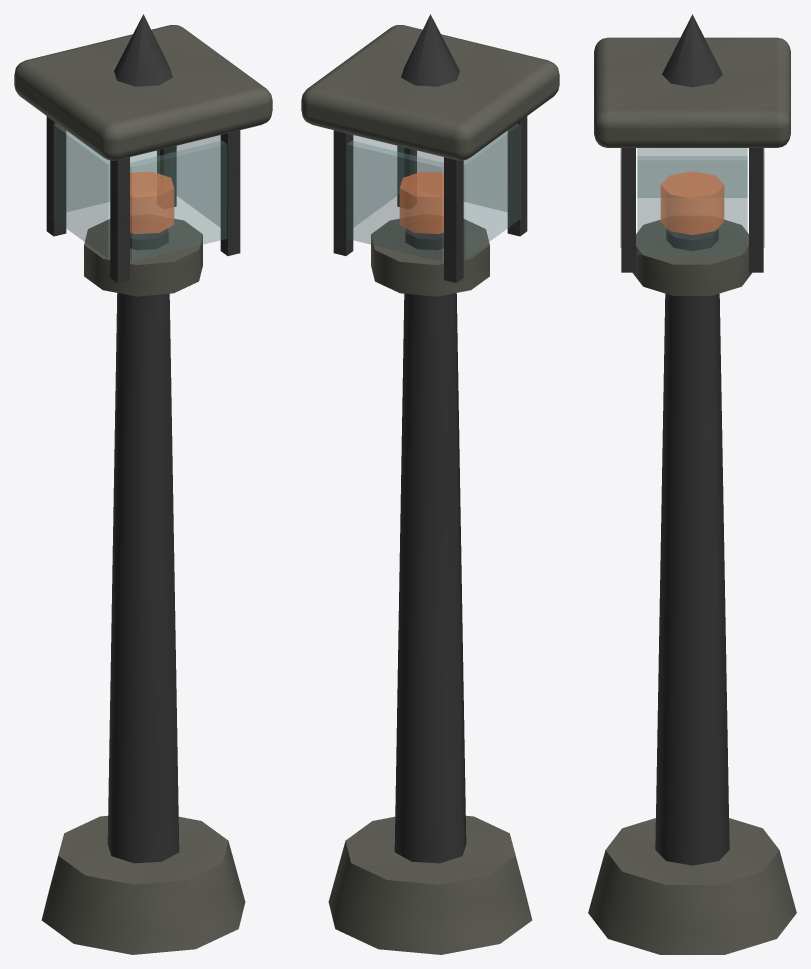
File: sk-lamp-post.glb
3 views of the same model, side by side, from view 1: azimuth 30°, elevation 25°; view 2: azimuth 150°, elevation 25°; view 3: azimuth 270°, elevation 25° (orthographic).
Visible parts, largest first — view 1: settlement:lamp_post-static-metal (×2), settlement:lamp_post-static-glass, lamp-ember; view 2: settlement:lamp_post-static-metal (×2), settlement:lamp_post-static-glass, lamp-ember; view 3: settlement:lamp_post-static-metal (×2), settlement:lamp_post-static-glass, lamp-ember.
Boxes of the visible parts, box(x1,y1,x2,y2) form: settlement:lamp_post-static-metal (×2): box(14, 14, 272, 954); settlement:lamp_post-static-glass: box(53, 124, 226, 261); lamp-ember: box(130, 171, 174, 234); settlement:lamp_post-static-metal (×2): box(301, 14, 559, 954); settlement:lamp_post-static-glass: box(347, 124, 520, 261); lamp-ember: box(399, 171, 443, 234); settlement:lamp_post-static-metal (×2): box(588, 14, 796, 954); settlement:lamp_post-static-glass: box(620, 148, 764, 254); lamp-ember: box(660, 171, 724, 234).
Bounding box in the file's own units: 0.3424 × 1.71 × 0.36.
Materials: 4 (3 with a texture image).
